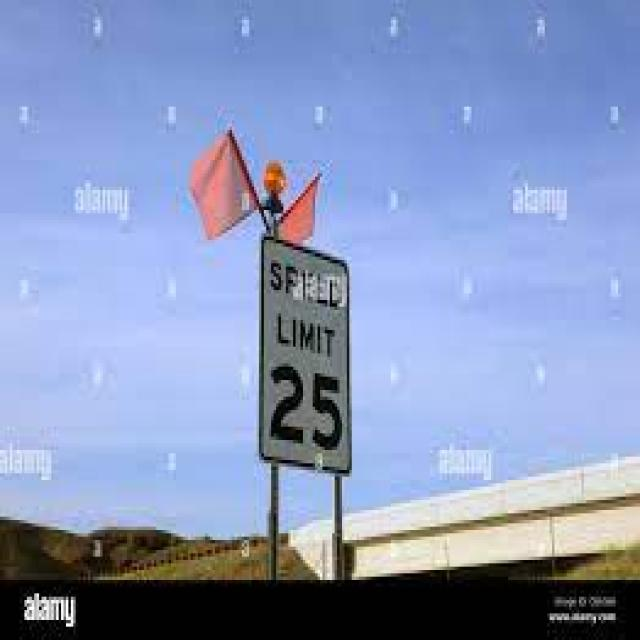speedLimit25: (259, 230, 352, 480)
